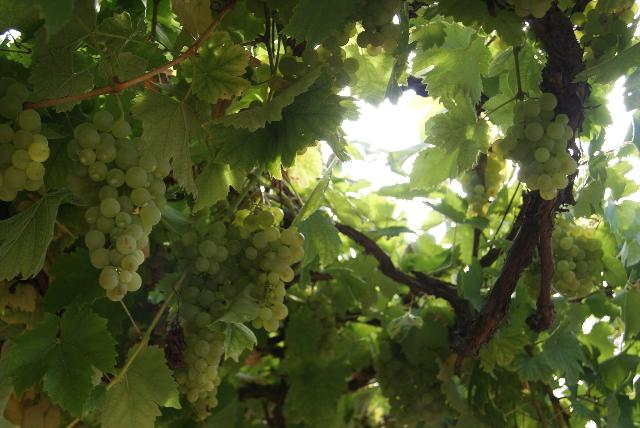grapes: (66, 110, 171, 301), (491, 92, 578, 200), (176, 275, 236, 420), (236, 206, 305, 332), (0, 82, 50, 201)
